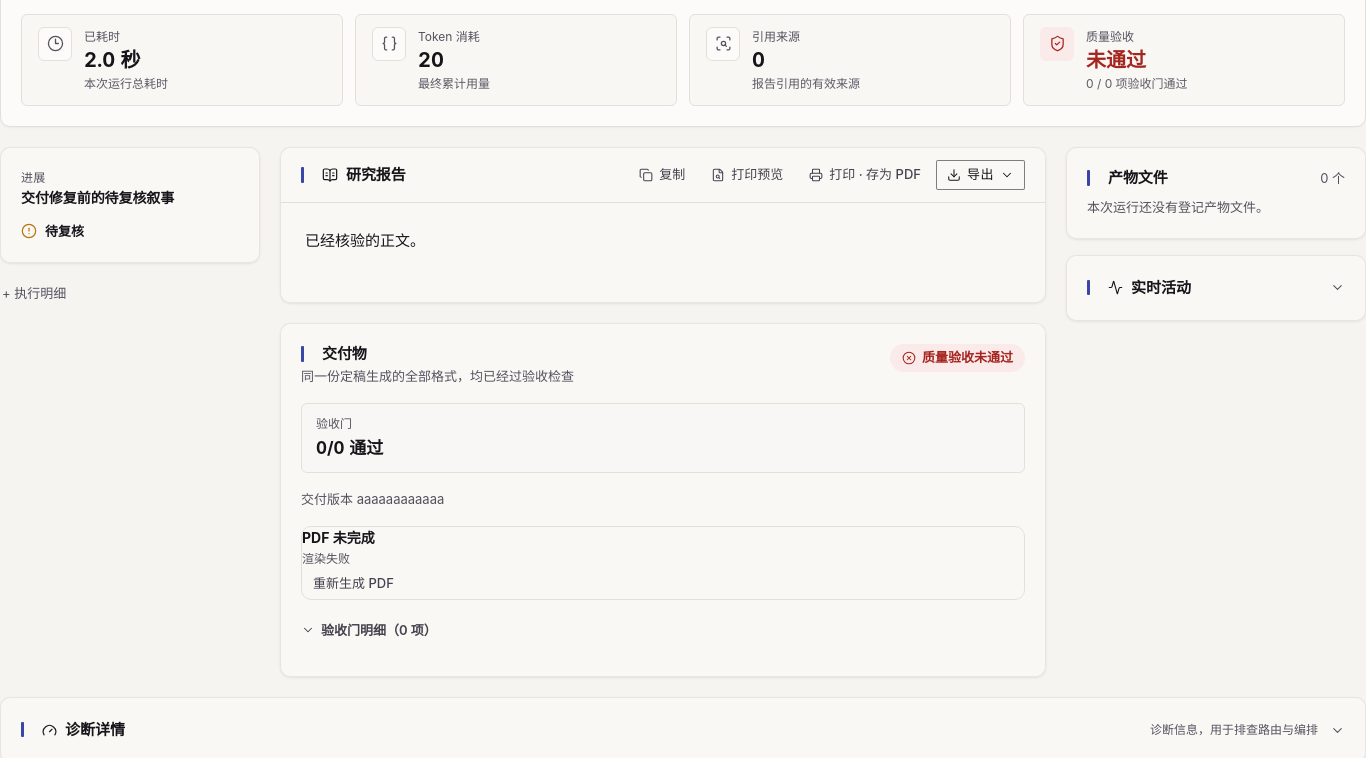
Test: refreshes persisted run status after a format retry and removes old review diagnostics
(page scrolled)
expect the heading "交付修复前的待复核叙事" is shown: met, box [21,189,174,209]
Click the button "重新生成 PDF" at (353, 584), box [302,568,405,598]
(page scrolled)
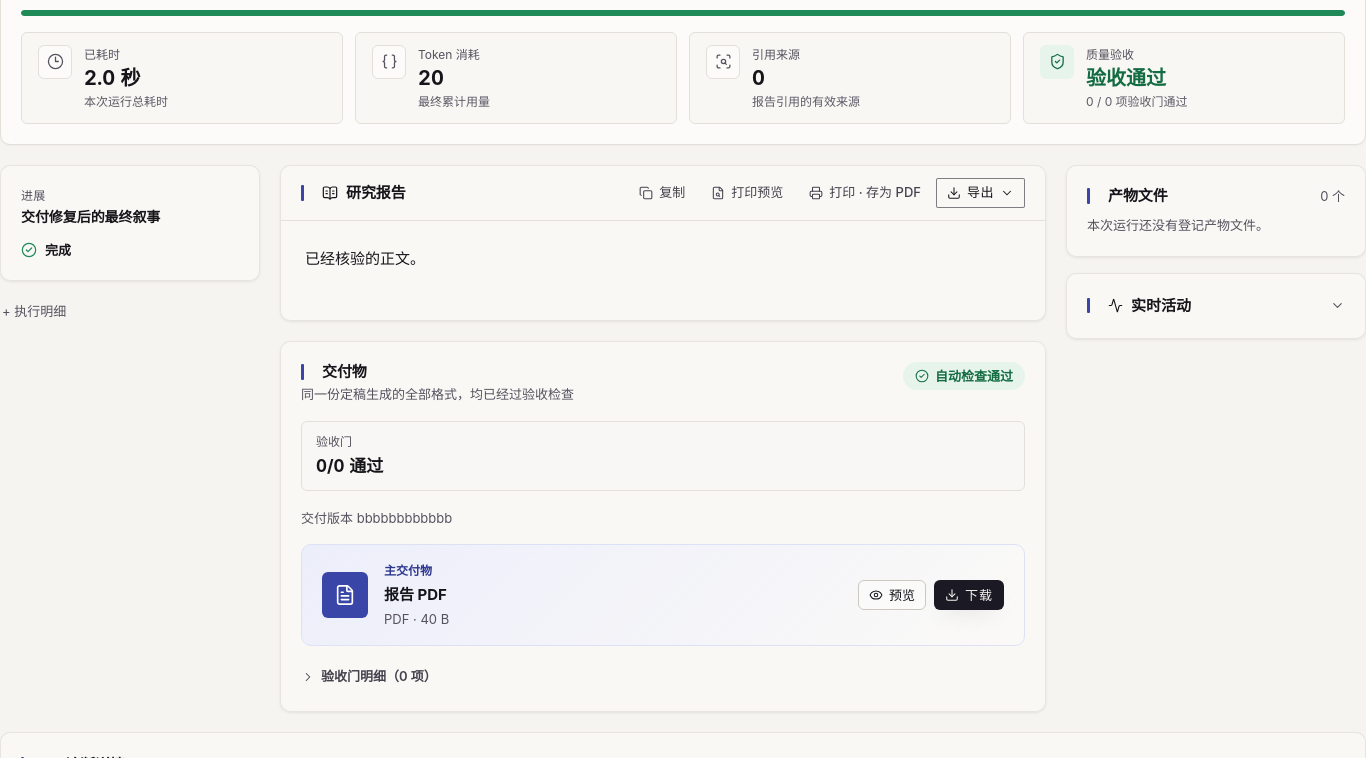
expect the button "重新生成 PDF" is gone: met
expect the text "自动检查通过" is shown: met, box [903,362,1025,390]
expect the heading "交付修复后的最终叙事" is shown: met, box [21,208,160,228]
